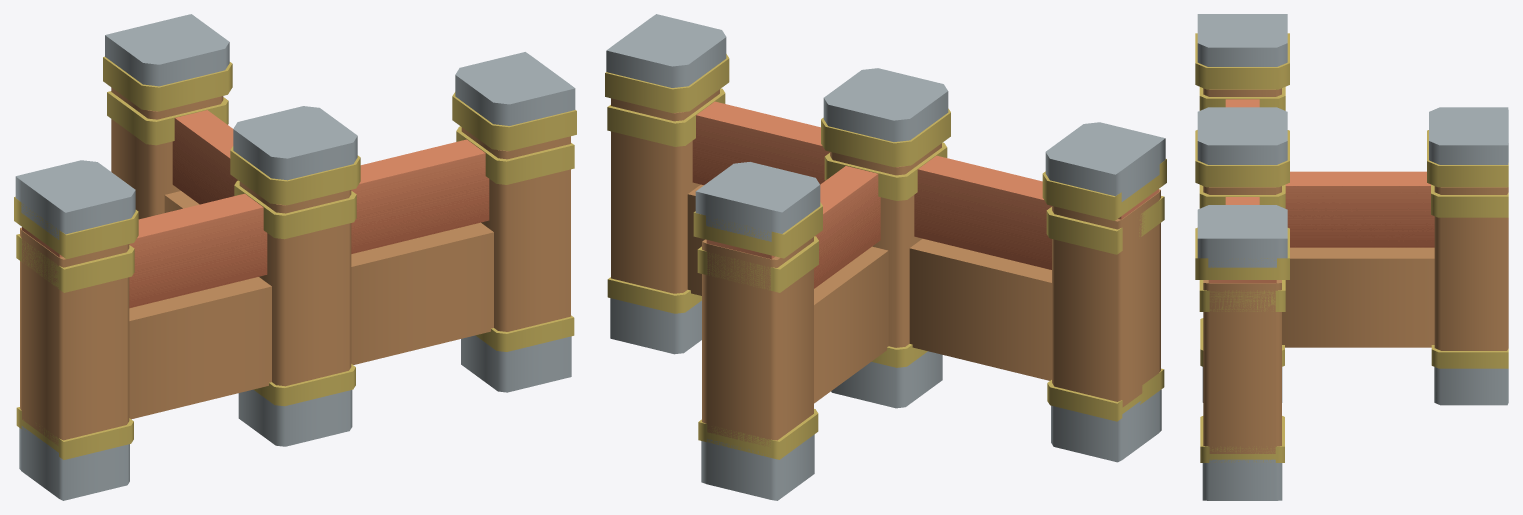
3 views of the same model, side by side, from view 1: azimuth 30°, elevation 25°; view 2: azimuth 150°, elevation 25°; view 3: azimuth 270°, elevation 25° (orthographic). The views are drawn at different scales.
Parts seen in each view (by area): view 1: upgrade_wall_level_8, upgrade_wall_level_4, upgrade_wall_level_5, upgrade_wall_level_6, wood-structure-part.010, upgrade_wall_level_7, upgrade_wall_level_2; view 2: upgrade_wall_level_8, upgrade_wall_level_4, upgrade_wall_level_5, upgrade_wall_level_7, upgrade_wall_level_6, wood-structure-part.010, upgrade_wall_level_2; view 3: upgrade_wall_level_4, upgrade_wall_level_7, upgrade_wall_level_8, upgrade_wall_level_6, wood-structure-part.010, upgrade_wall_level_5, upgrade_wall_level_2.
Part boxes in pixels (x1,y1,x2,y2): upgrade_wall_level_8: (14,37,576,500); upgrade_wall_level_4: (20,87,570,445); upgrade_wall_level_5: (16,88,574,444); upgrade_wall_level_6: (129,191,493,419); wood-structure-part.010: (22,110,489,308); upgrade_wall_level_7: (15,14,575,239); upgrade_wall_level_2: (19,335,571,500); upgrade_wall_level_8: (605,39,1166,500); upgrade_wall_level_4: (611,89,1160,446); upgrade_wall_level_5: (607,88,1164,445); upgrade_wall_level_7: (606,14,1165,241); upgrade_wall_level_6: (687,184,1051,403); wood-structure-part.010: (692,101,1158,288); upgrade_wall_level_2: (610,298,1161,500); upgrade_wall_level_4: (1203,88,1508,453); upgrade_wall_level_7: (1197,14,1508,267); upgrade_wall_level_8: (1195,33,1508,500); upgrade_wall_level_6: (1282,247,1434,347); wood-structure-part.010: (1208,99,1434,283); upgrade_wall_level_5: (1199,87,1508,453); upgrade_wall_level_2: (1202,368,1508,500).
Bounding box in the file's own units: 1 × 0.545 × 0.59.
2 materials, 1 textured.
